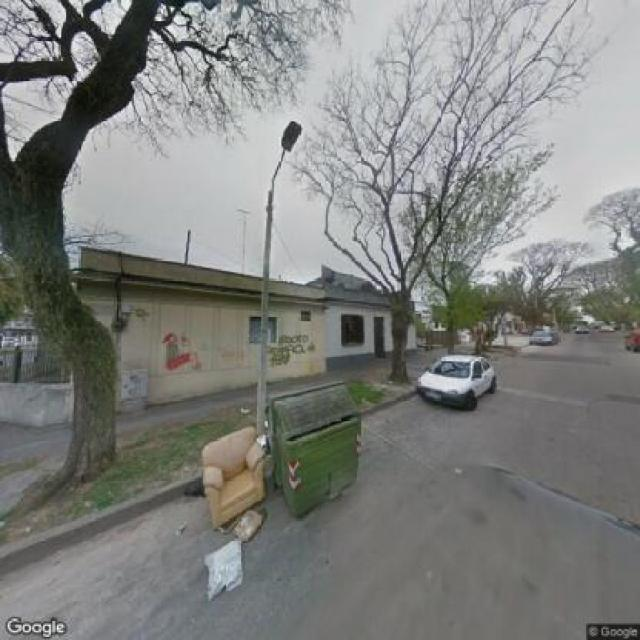garbage: (185, 430, 271, 606)
